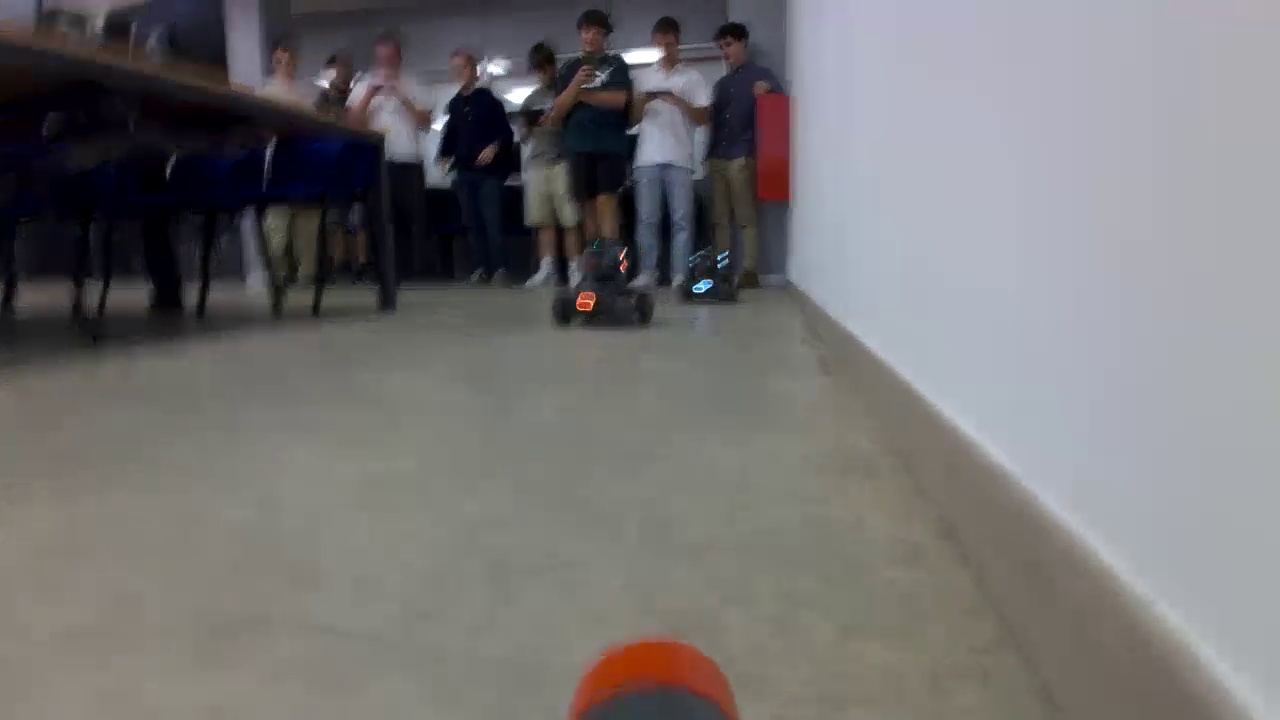robot: (560, 250, 678, 335), (680, 240, 745, 302)
